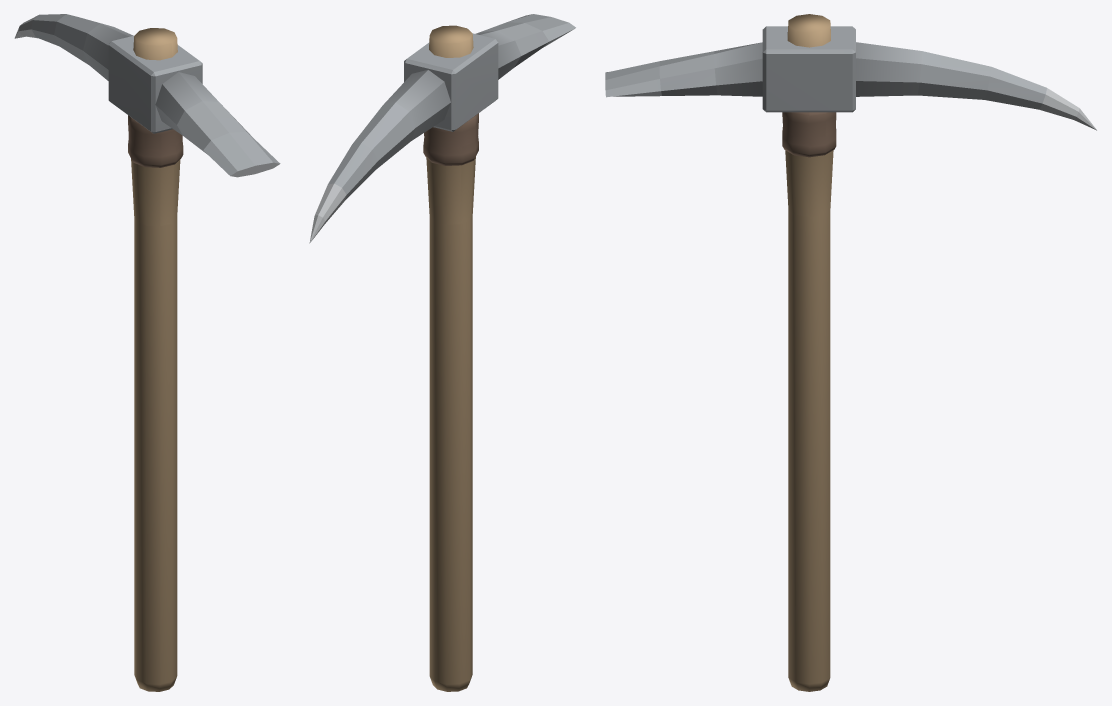
The model's file is pickaxe.glb.
3 renders of one model, left to right at view 1: azimuth 30°, elevation 25°; view 2: azimuth 150°, elevation 25°; view 3: azimuth 270°, elevation 25°, orthographic. The views are drawn at different scales.
Size of the model in its own units: 0.072 by 0.86 by 0.5807.
